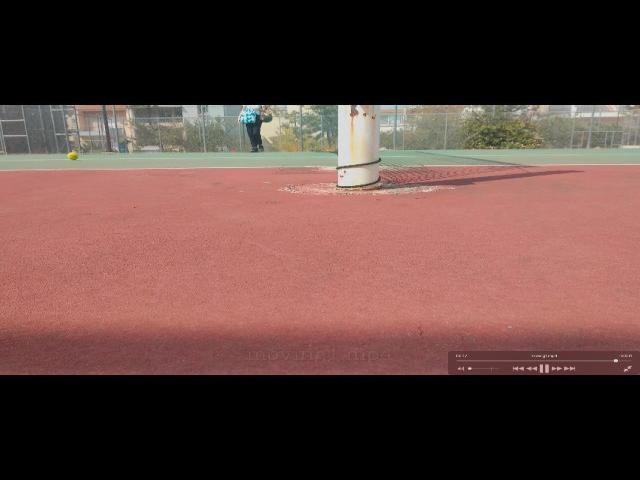tennis-ball: (66, 152, 78, 160)
